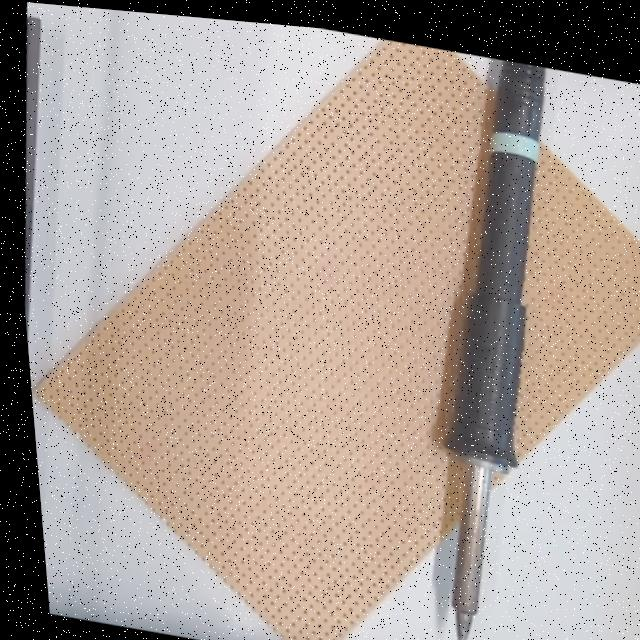soldering_iron: (398, 45, 597, 640)
